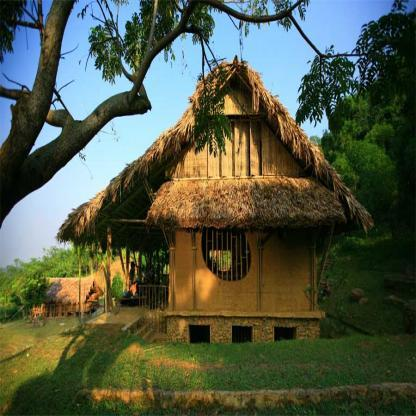Building Outline: (57, 53, 374, 344)
Dont: (189, 32, 233, 158)
Facade: (108, 177, 320, 326)
Floor Slab: (167, 316, 320, 326)
Ground Floor: (80, 206, 320, 316)
Raised Floor: (167, 177, 320, 316)
Roof: (57, 53, 374, 250), (144, 177, 348, 230)
Window: (202, 229, 251, 282)
